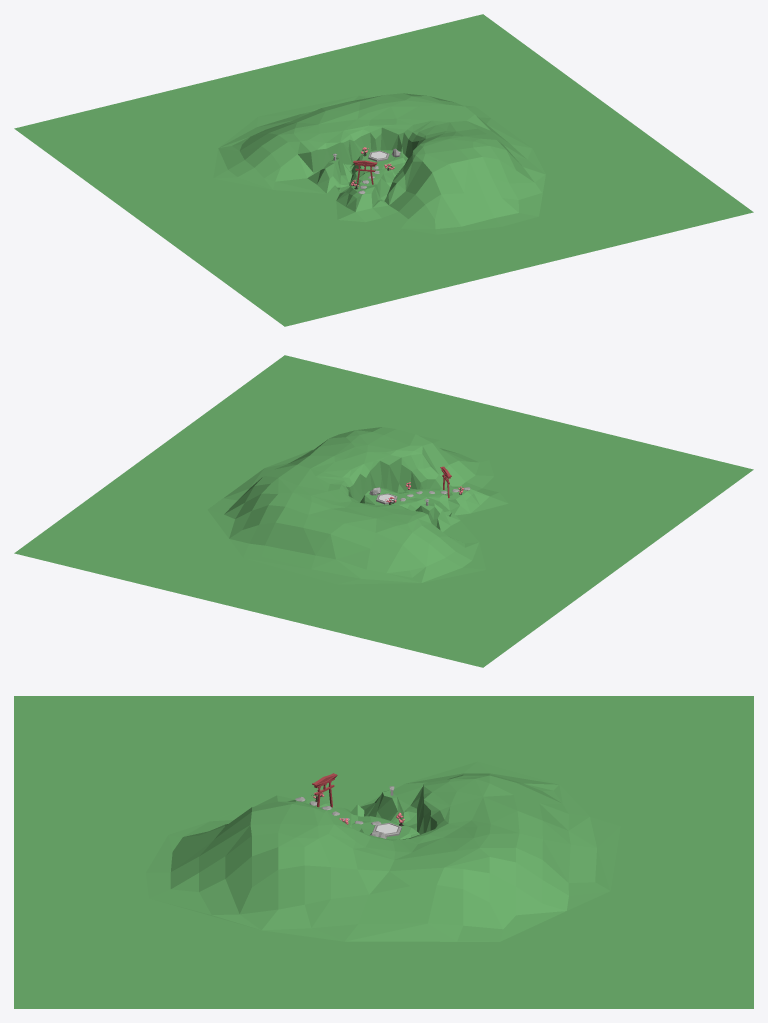
The model's file is Island.obj.
3 views of the same model, one above another, from view 1: azimuth 30°, elevation 25°; view 2: azimuth 150°, elevation 25°; view 3: azimuth 270°, elevation 25° (orthographic). The views are drawn at different scales.
Visible parts, largest first — view 1: Land.001_Plane.002; view 2: Land.001_Plane.002; view 3: Land.001_Plane.002.
Boxes of the visible parts, box(x1,y1,x2,y2) form: Land.001_Plane.002: box(14, 14, 753, 326); Land.001_Plane.002: box(14, 355, 753, 667); Land.001_Plane.002: box(14, 696, 753, 1008).
Size of the model in its own units: 80 by 12.9 by 80.
